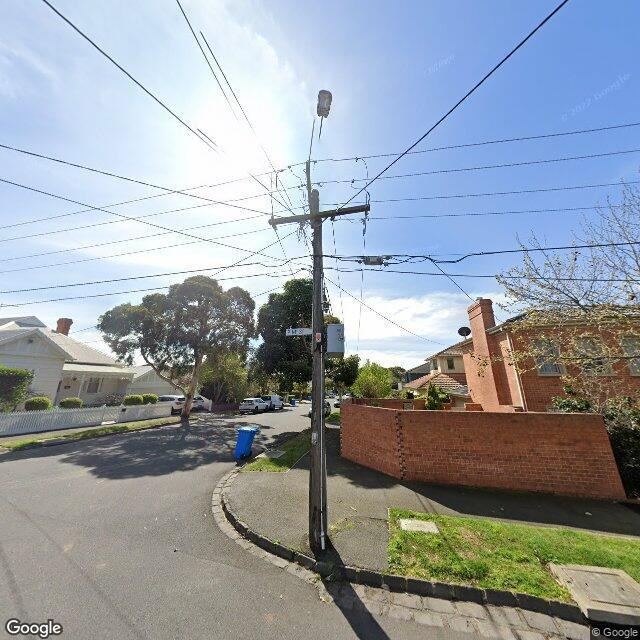crossarm: (269, 204, 370, 226)
streetlight: (306, 89, 334, 202)
timber-pole: (309, 189, 327, 549)
transformer: (326, 324, 344, 358)
